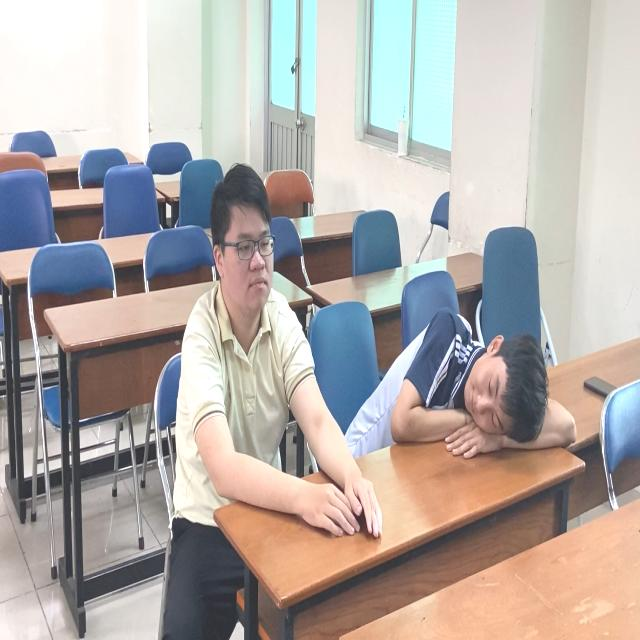sleep: (362, 303, 591, 467)
